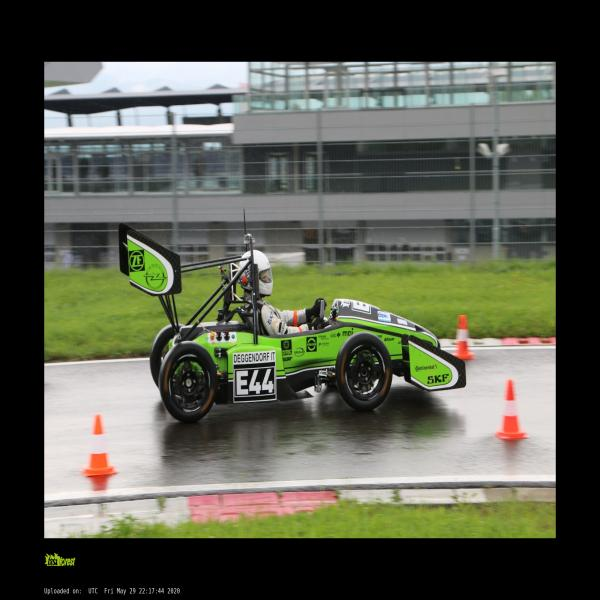orange_cone: (79, 415, 118, 476), (493, 379, 531, 439), (451, 315, 476, 359)
